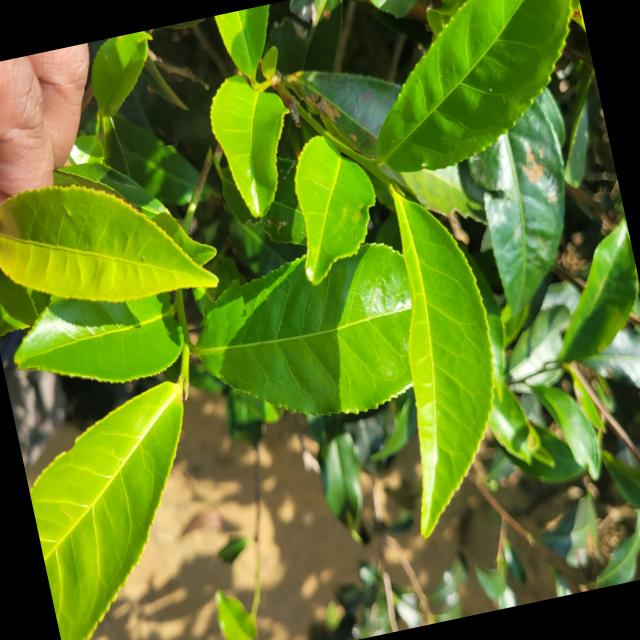Catagory A(1-2 days): (0, 136, 249, 374)
